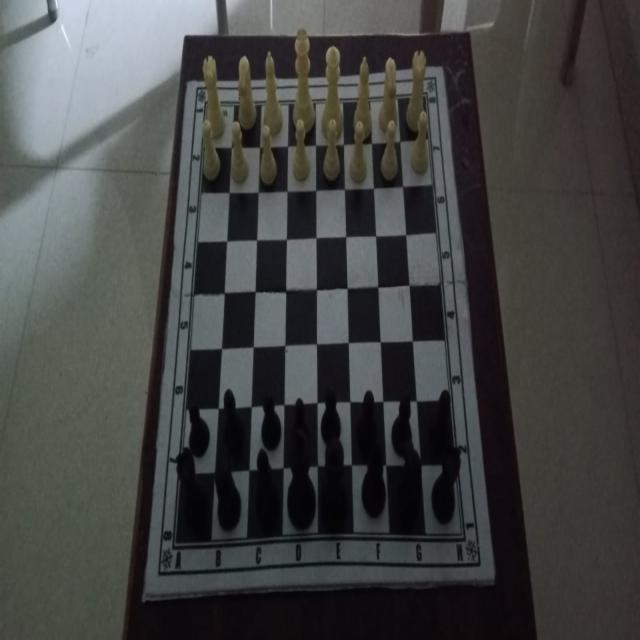corners: (136, 583, 154, 608), (487, 566, 500, 592), (436, 60, 449, 83), (183, 74, 195, 92)
